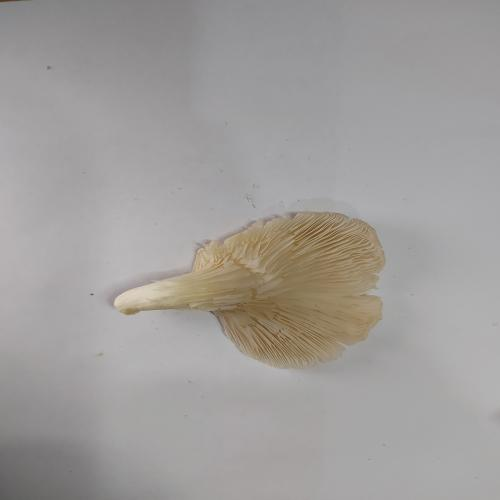Oyster Mushroom: (113, 210, 386, 369)
